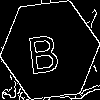B: (25, 25, 61, 74)
